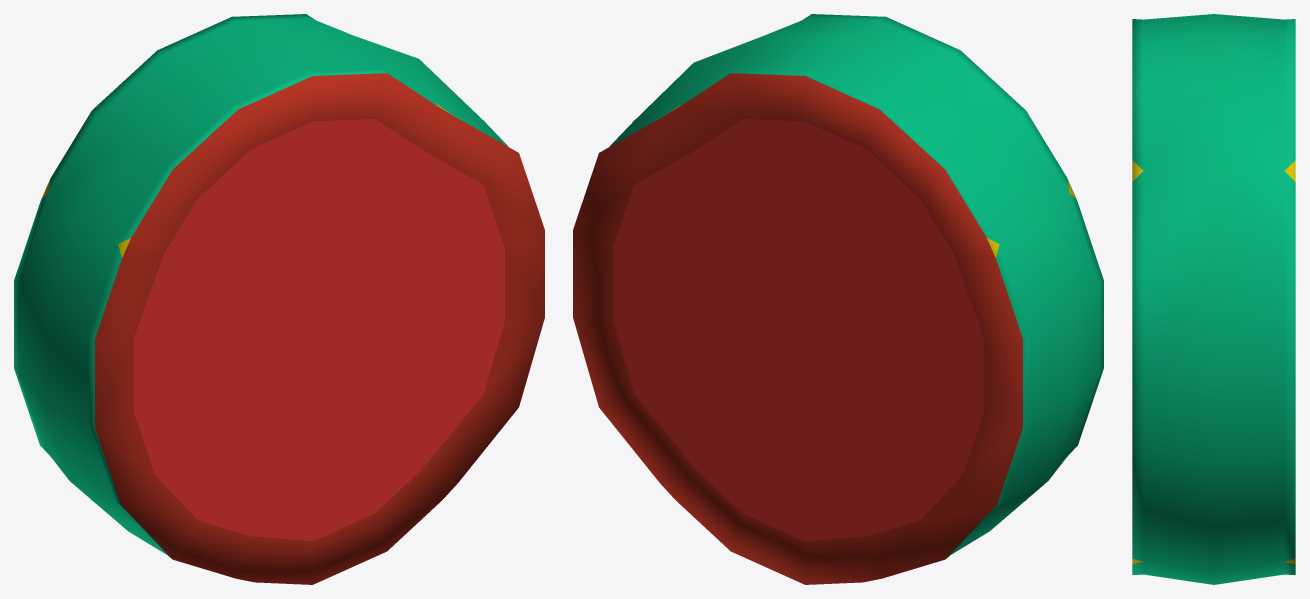
The model's file is Sweet_potato_slice.fbx.
3 renders of one model, left to right at view 1: azimuth 30°, elevation 25°; view 2: azimuth 150°, elevation 25°; view 3: azimuth 270°, elevation 25°, orthographic.
Visible parts, largest first — view 1: Sweet_potato_slice; view 2: Sweet_potato_slice; view 3: Sweet_potato_slice.
Part boxes in pixels (x1,y1,x2,y2): Sweet_potato_slice: [14, 14, 544, 584]; Sweet_potato_slice: [573, 14, 1103, 584]; Sweet_potato_slice: [1132, 14, 1295, 584].
Bounding box in the file's own units: 68.63 × 20.25 × 72.2.
